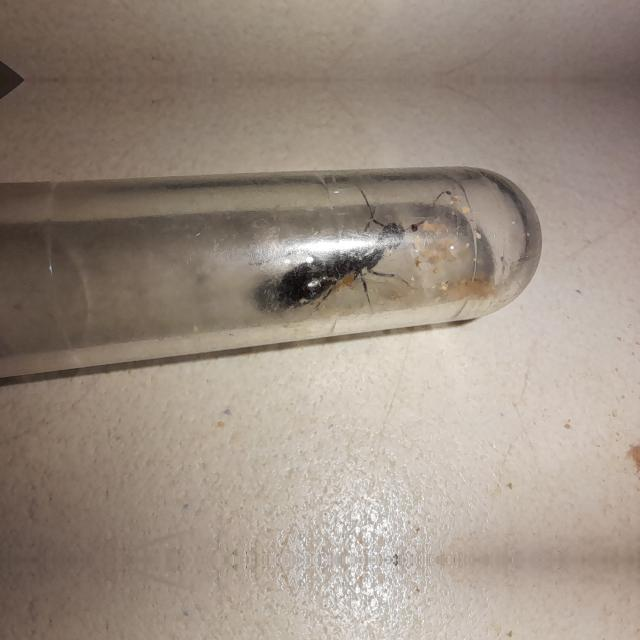Camponotus: (262, 164, 438, 334)
